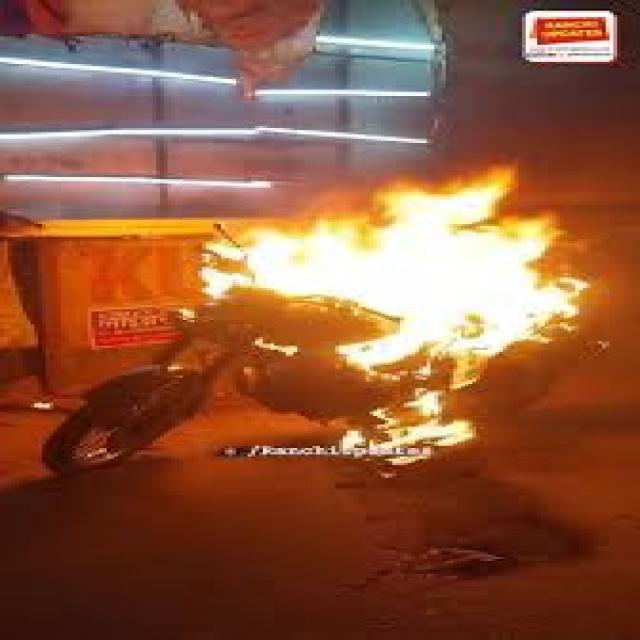fire: (196, 163, 590, 391), (339, 393, 478, 464)
